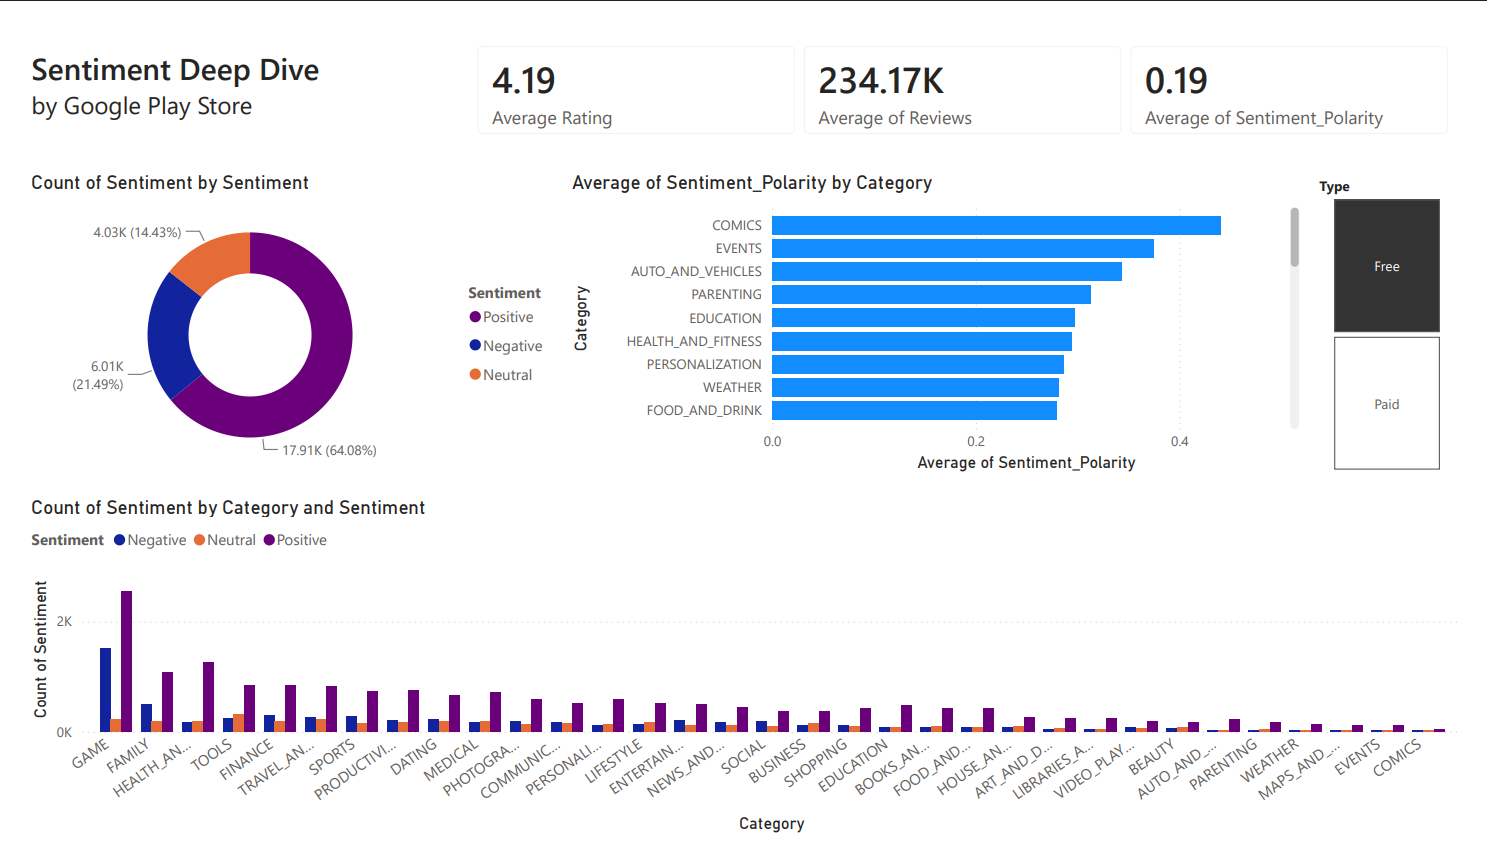

The dashboard page shown, as its layout file describes it:
{"tool":"powerbi","page":{"name":"Sentiment","canvas":[1280,720],"ordinal":2},"visuals":[{"type":"textbox","box":[0,0,384,112],"z":0},{"type":"cardVisual","fields":{"Data":["Play Store Data.Average Rating","Avg(Play Store Data.Reviews)","Avg(User Reviews.Sentiment_Polarity)"]},"box":[384,0,896,112],"z":1},{"type":"slicer","fields":{"Values":["Play Store Data.Type"]},"box":[1136,128,144,272],"z":2},{"type":"donutChart","fields":{"Category":["User Reviews.Sentiment"],"Y":["CountNonNull(User Reviews.Sentiment)"]},"box":[0,128,480,272],"z":3},{"type":"clusteredColumnChart","fields":{"Category":["Play Store Data.Category"],"Series":["User Reviews.Sentiment"],"Y":["CountNonNull(User Reviews.Sentiment)"]},"box":[0,416,1280,304],"z":4},{"type":"clusteredBarChart","fields":{"Category":["Play Store Data.Category"],"Y":["Avg(User Reviews.Sentiment_Polarity)"]},"box":[480,128,656,272],"z":5}]}

Visuals, with their boxes in screenshot pixels (x1, y1, x2, y2), scaled from the page's 1280x720 canvas onto the 1487x862 screenshot:
textbox: detection(0, 0, 446, 134)
cardVisual - Play Store Data.Average Rating x Avg(Play Store Data.Reviews): detection(446, 0, 1486, 134)
slicer - Play Store Data.Type: detection(1320, 153, 1486, 479)
donutChart - User Reviews.Sentiment x CountNonNull(User Reviews.Sentiment): detection(0, 153, 558, 479)
clusteredColumnChart - Play Store Data.Category x User Reviews.Sentiment: detection(0, 498, 1486, 861)
clusteredBarChart - Play Store Data.Category x Avg(User Reviews.Sentiment_Polarity): detection(558, 153, 1320, 479)
